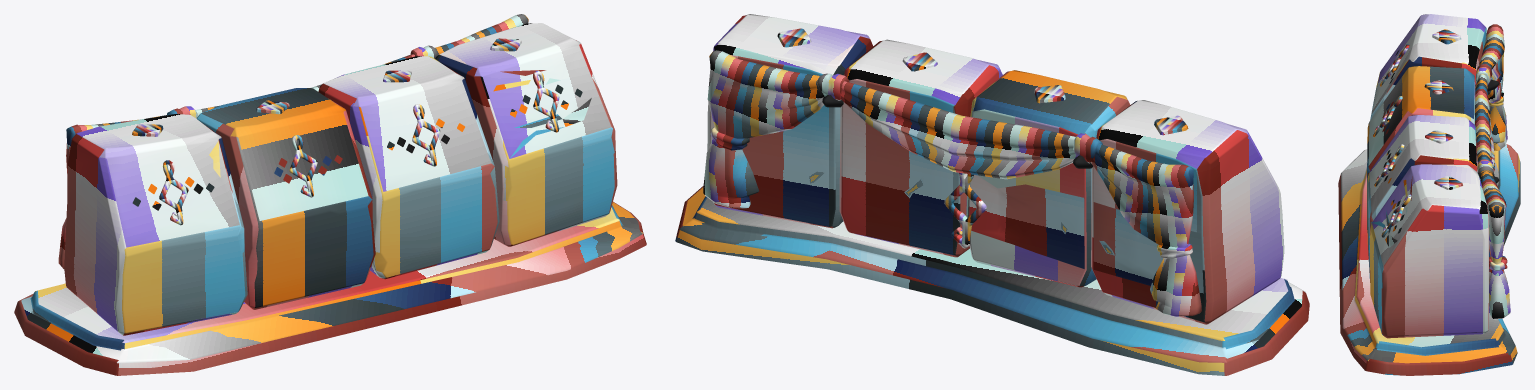
The model's file is CharSkyKid_Prop_SequencerStation.glb.
The picture shows the model from 3 angles, left to right: view 1: azimuth 30°, elevation 25°; view 2: azimuth 150°, elevation 25°; view 3: azimuth 270°, elevation 25°; orthographic projection. The views are drawn at different scales.
Visible parts, largest first — view 1: CharSkyKid_Prop_SequencerStation; view 2: CharSkyKid_Prop_SequencerStation; view 3: CharSkyKid_Prop_SequencerStation.
Boxes of the visible parts, <box> form: CharSkyKid_Prop_SequencerStation: <box>14,14,646,375</box>; CharSkyKid_Prop_SequencerStation: <box>675,14,1309,375</box>; CharSkyKid_Prop_SequencerStation: <box>1338,14,1520,375</box>.
Size of the model in its own units: 14.69 by 4.69 by 4.93.
Materials: 1 (1 with a texture image).
